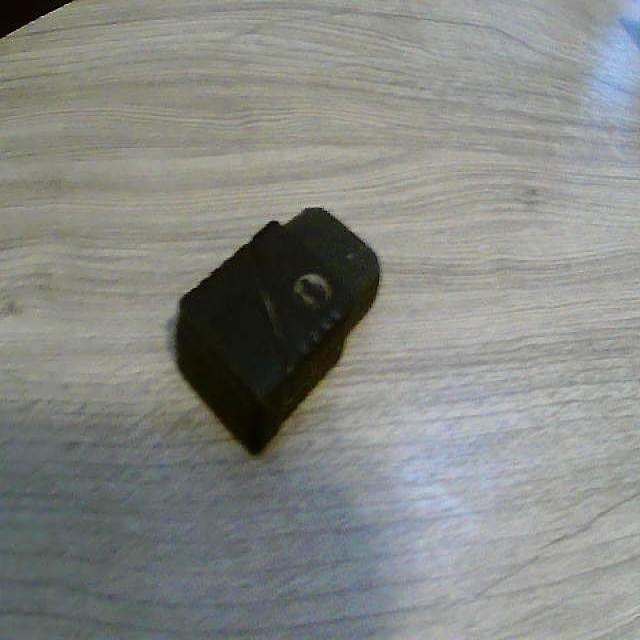borracha: (159, 181, 417, 474)
